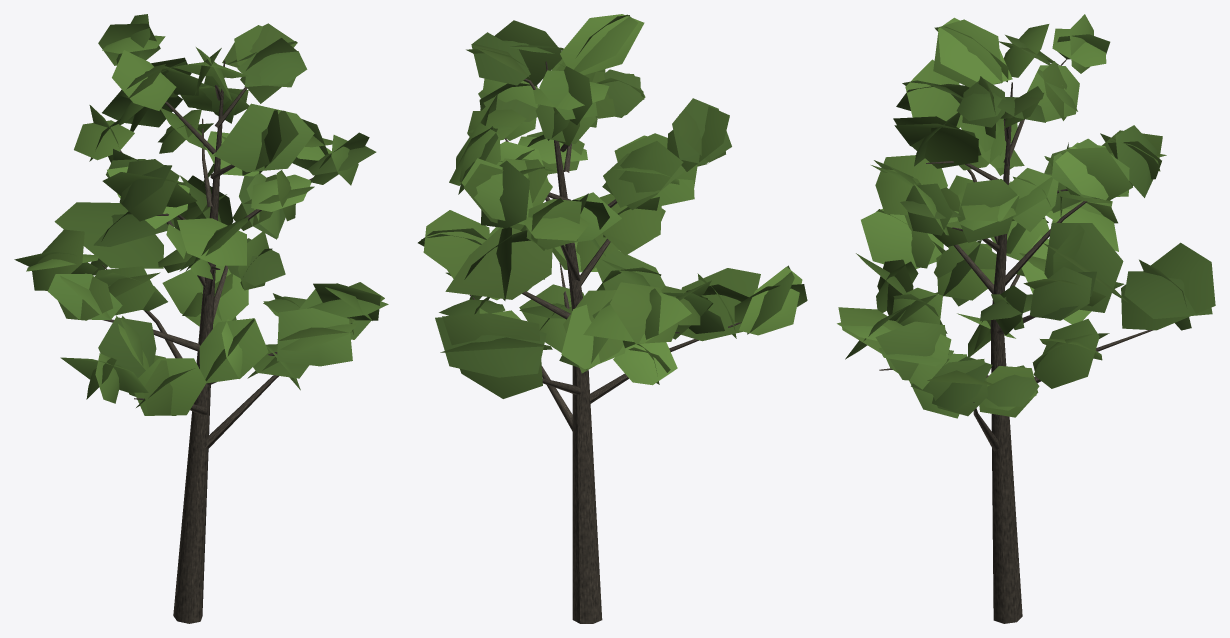
File: asymmetric_06_lod2.glb
3 views of the same model, side by side, from view 1: azimuth 30°, elevation 25°; view 2: azimuth 150°, elevation 25°; view 3: azimuth 270°, elevation 25° (orthographic).
Parts seen in each view (by area): view 1: individual_curved_leaf_sprigs, retained_branches_0; view 2: individual_curved_leaf_sprigs, retained_branches_0; view 3: individual_curved_leaf_sprigs, retained_branches_0.
Boxes of the visible parts, <box> form: individual_curved_leaf_sprigs: <box>14,14,388,415</box>; retained_branches_0: <box>102,60,313,623</box>; individual_curved_leaf_sprigs: <box>418,14,807,398</box>; retained_branches_0: <box>469,61,741,623</box>; individual_curved_leaf_sprigs: <box>837,14,1215,418</box>; retained_branches_0: <box>879,59,1152,623</box>.
Size of the model in its own units: 6.01 by 10.51 by 6.08.
2 materials, 1 textured.
